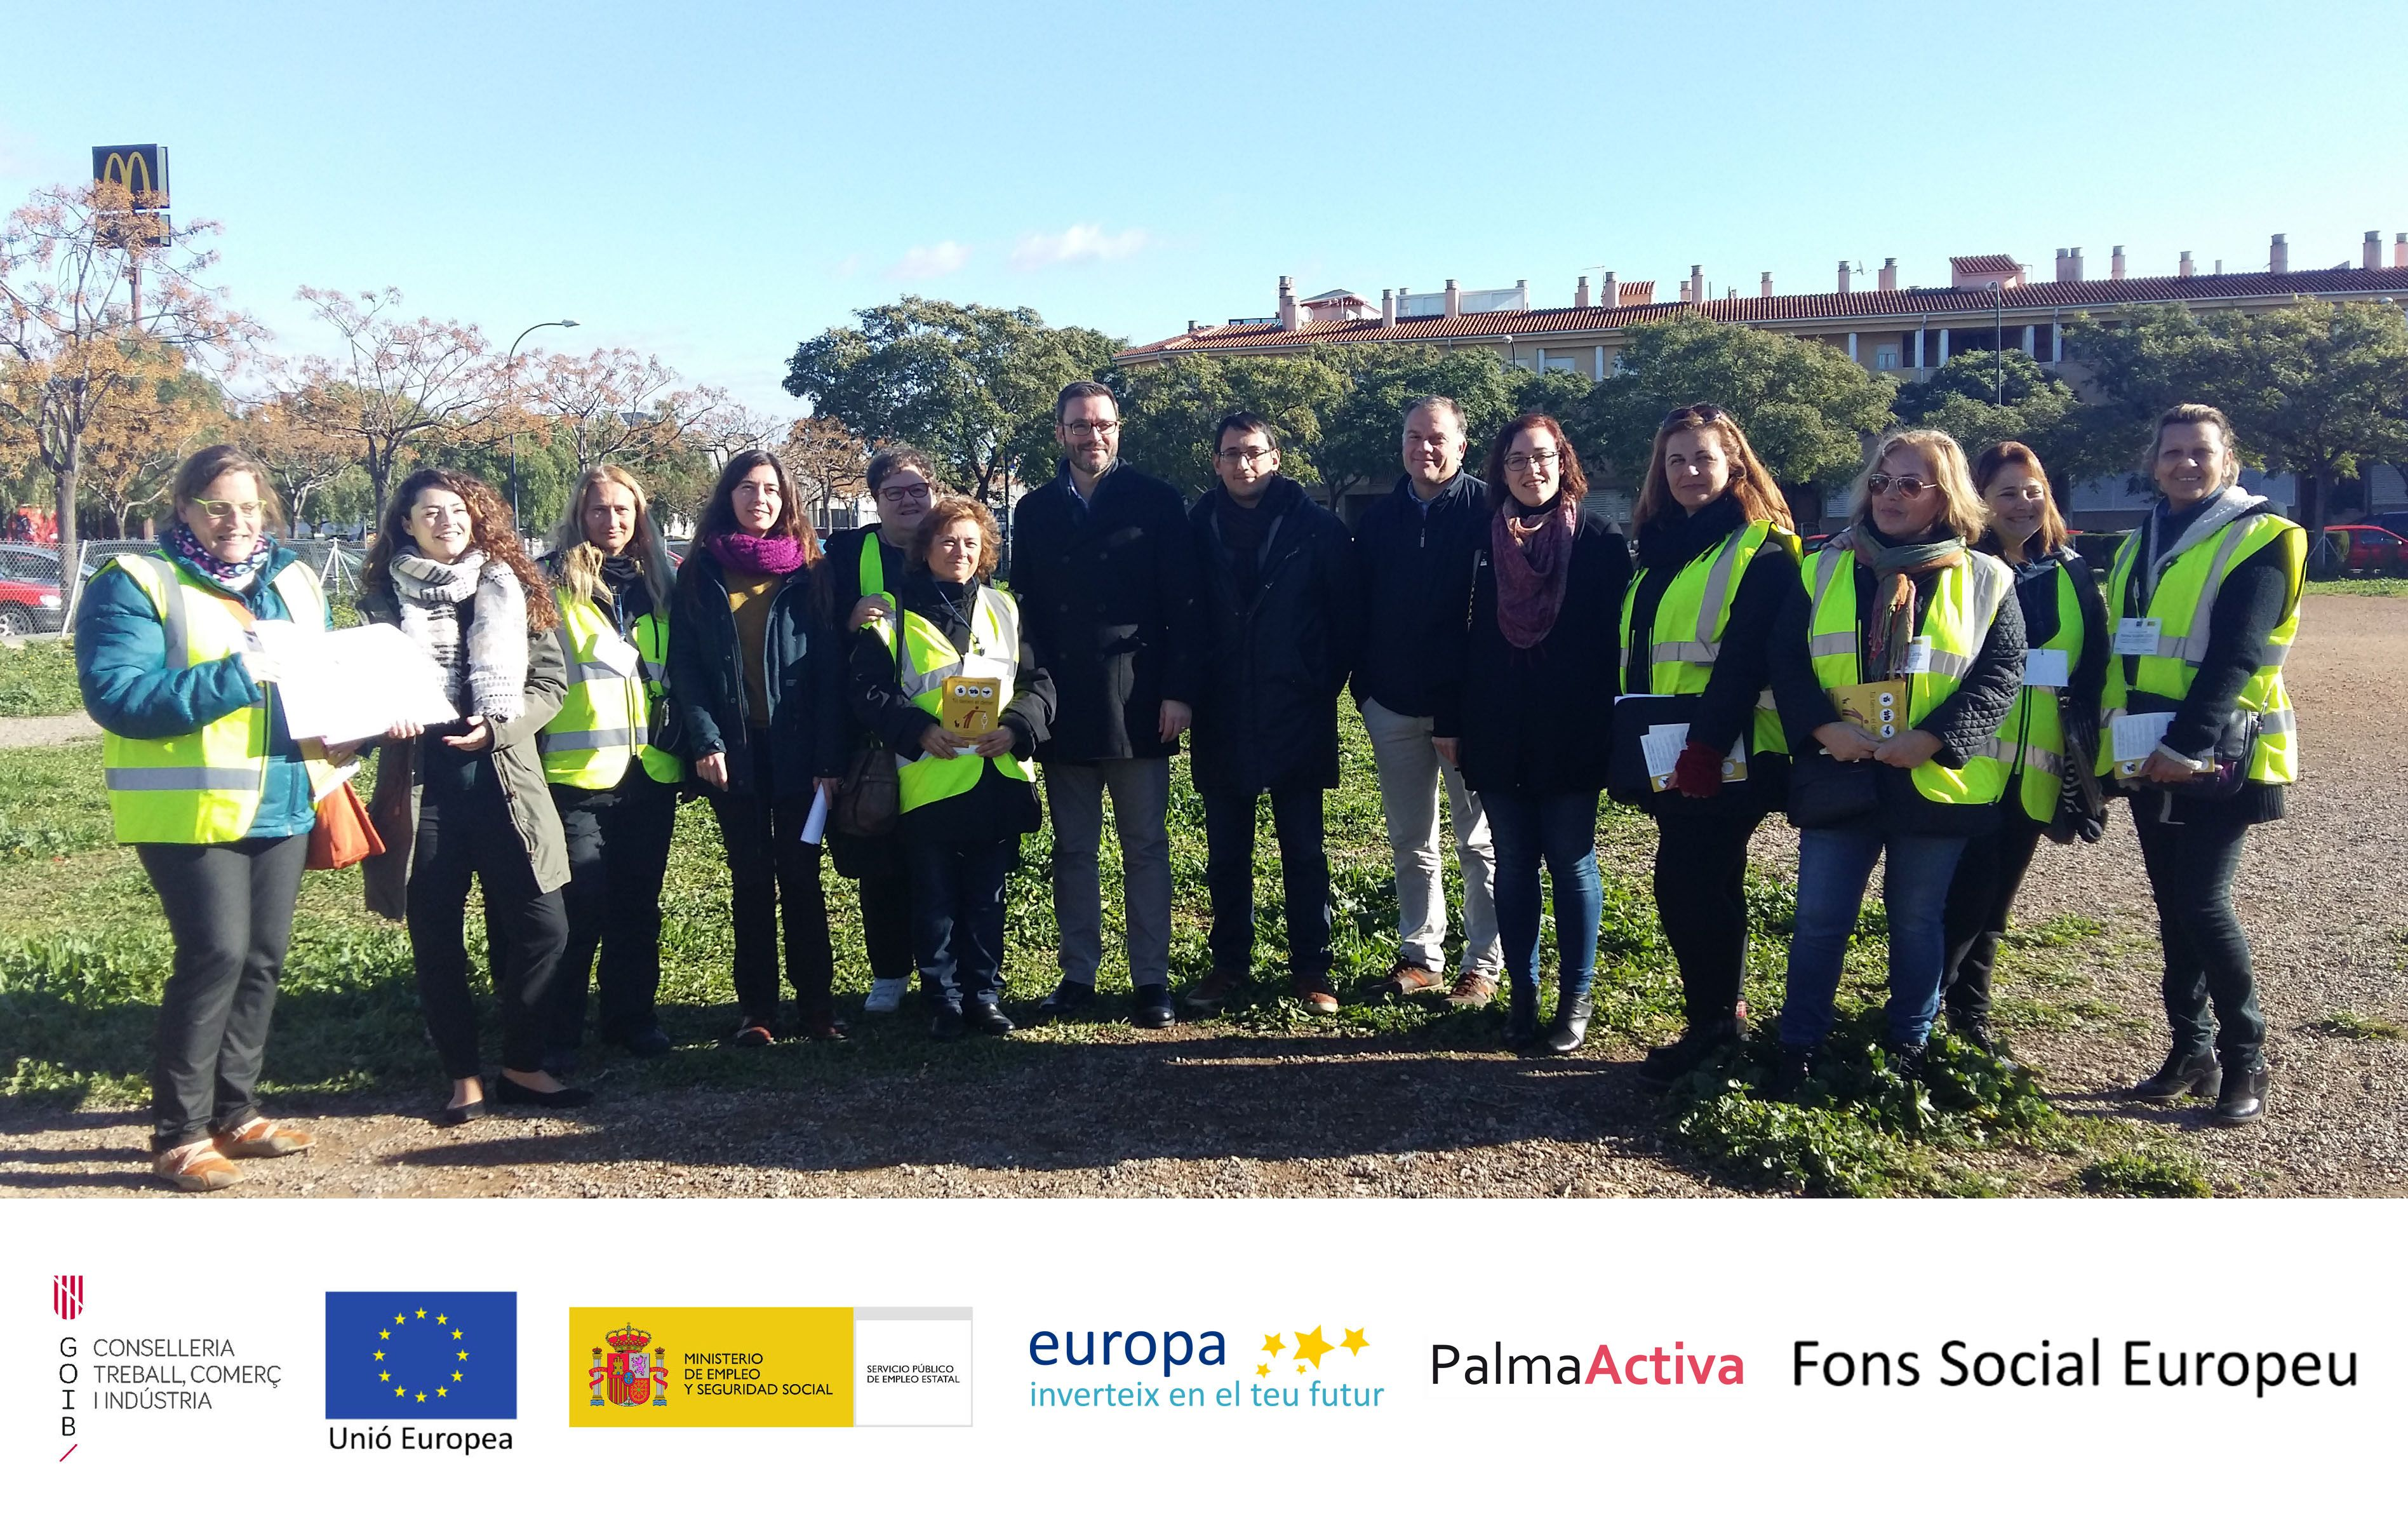person: (2103, 359, 2315, 734), (1821, 398, 2012, 734), (140, 389, 316, 729), (526, 453, 700, 751), (1622, 403, 1810, 654), (1023, 375, 1181, 662), (857, 469, 1004, 746), (1504, 387, 1611, 713), (1377, 370, 1487, 649), (385, 464, 504, 713), (683, 439, 813, 643), (1189, 412, 1316, 619)
